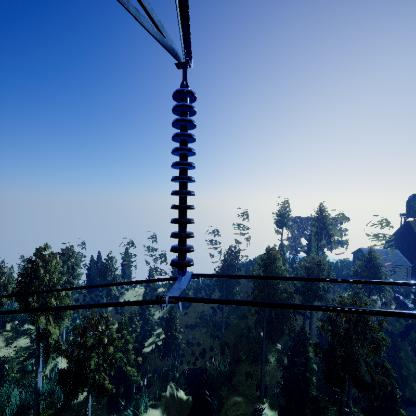insulator: (166, 85, 200, 274)
